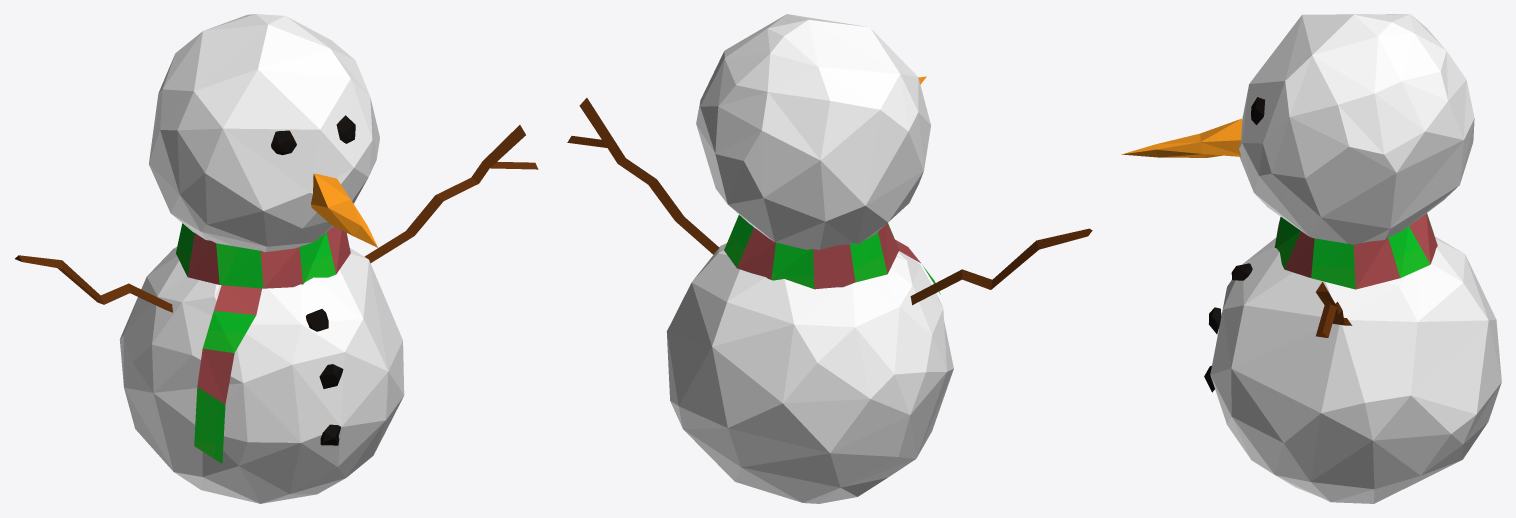
The model's file is Snowman_01.glb.
The picture shows the model from 3 angles, left to right: view 1: azimuth 30°, elevation 25°; view 2: azimuth 150°, elevation 25°; view 3: azimuth 270°, elevation 25°; orthographic projection.
Visible parts, largest first — view 1: Snowman; view 2: Snowman; view 3: Snowman.
Boxes of the visible parts, bbox=[...] form: Snowman: bbox=[15, 14, 538, 503]; Snowman: bbox=[567, 14, 1092, 503]; Snowman: bbox=[1121, 14, 1501, 503].
Size of the model in its own units: 166 by 143 by 104.
1 material, 1 textured.
